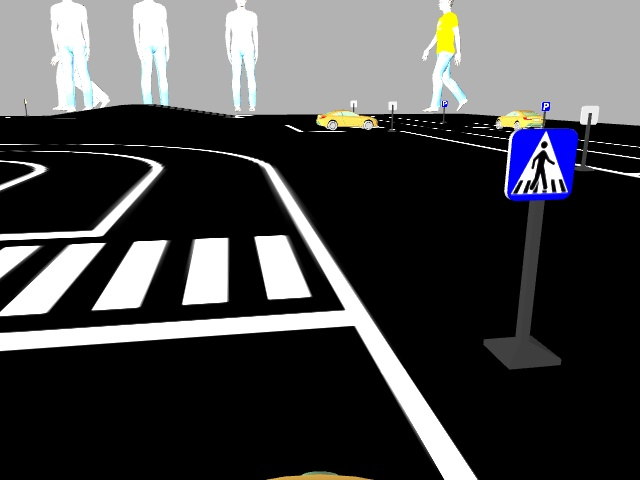Crosswalk: (501, 128, 579, 201)
Parking: (541, 100, 550, 112)
